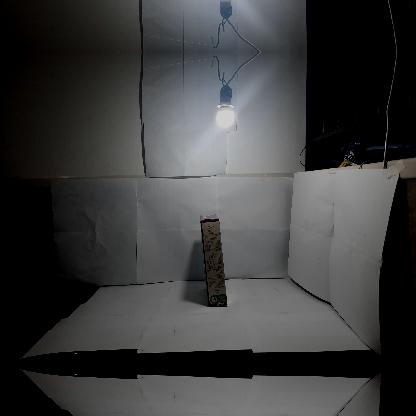Koko-Krunch: (199, 214, 226, 306)
